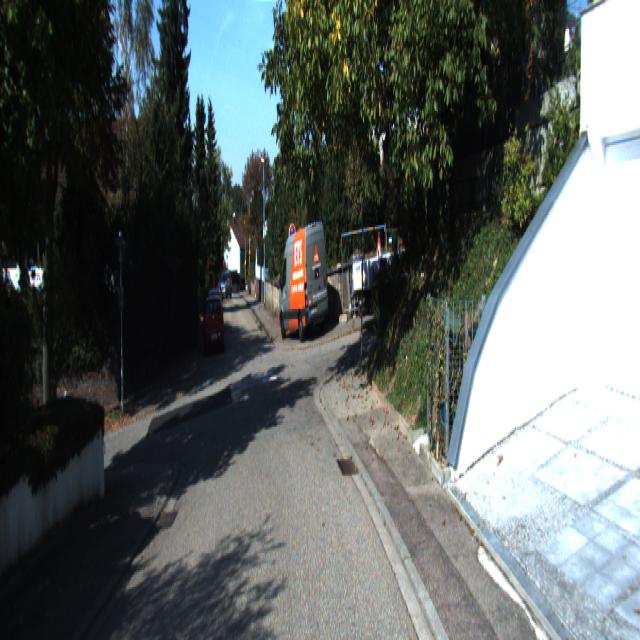Car: (278, 221, 329, 344), (202, 292, 226, 357)
